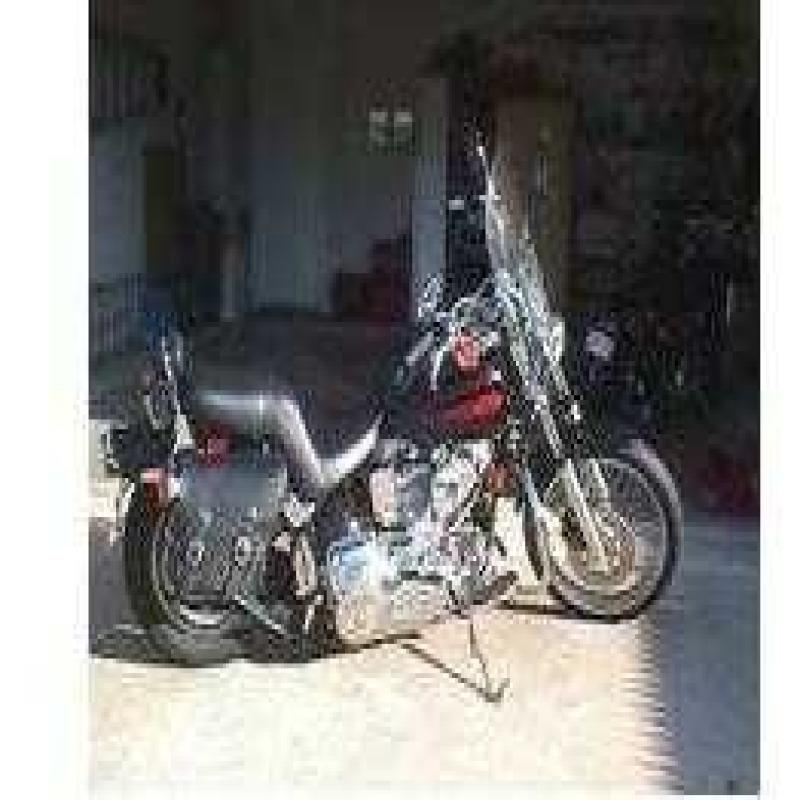bike: (105, 110, 678, 671)
